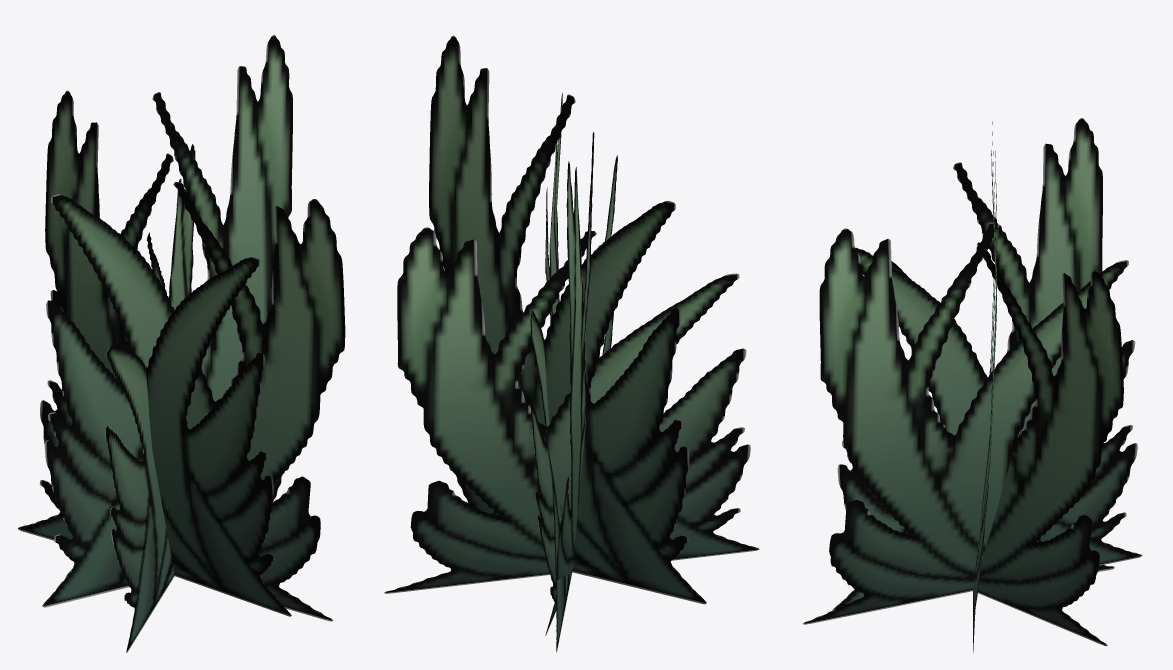
The model's file is ShredGrass.fbx.
3 views of the same model, side by side, from view 1: azimuth 30°, elevation 25°; view 2: azimuth 150°, elevation 25°; view 3: azimuth 270°, elevation 25° (orthographic). The views are drawn at different scales.
Parts seen in each view (by area): view 1: ShredGrass; view 2: ShredGrass; view 3: ShredGrass.
Boxes of the visible parts, <box> form: ShredGrass: <box>18,35,345,652</box>; ShredGrass: <box>384,35,759,652</box>; ShredGrass: <box>803,118,1142,653</box>.
Bounding box in the file's own units: 403 × 740 × 468.
1 material, 1 textured.
